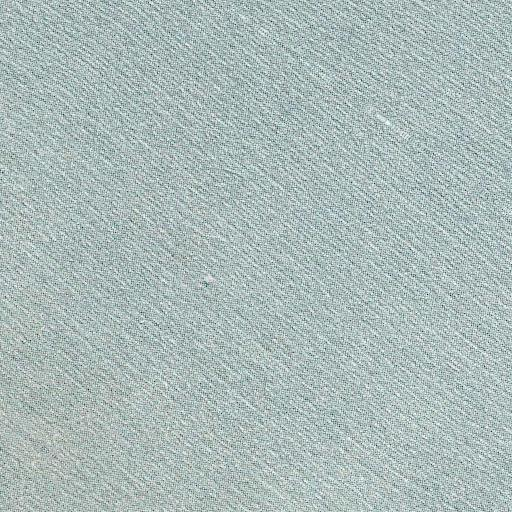knot: (194, 264, 230, 299)
